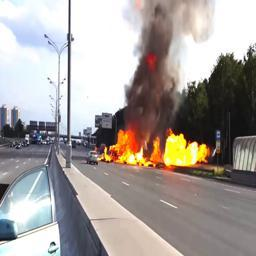fire: (103, 130, 209, 168)
